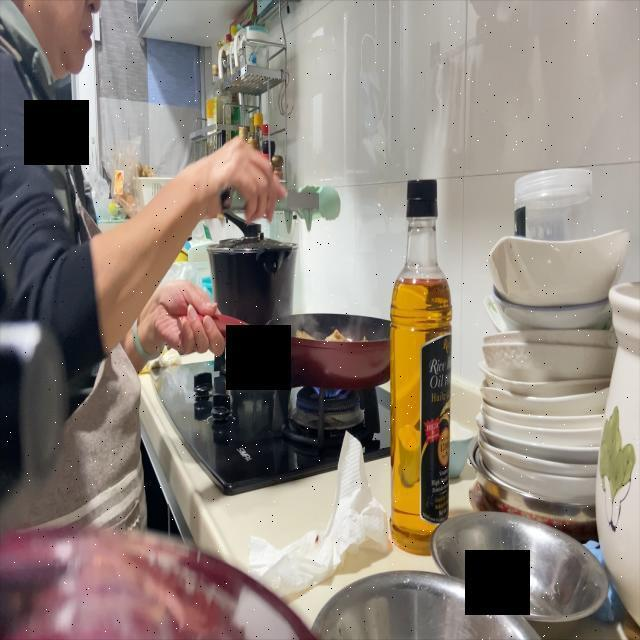Flame: (298, 386, 358, 412)
Pan: (278, 313, 395, 387)
